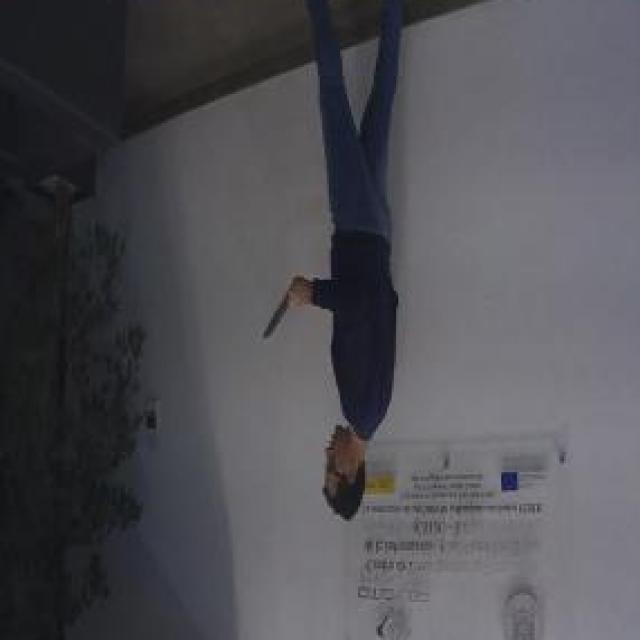knife: (262, 280, 300, 342)
